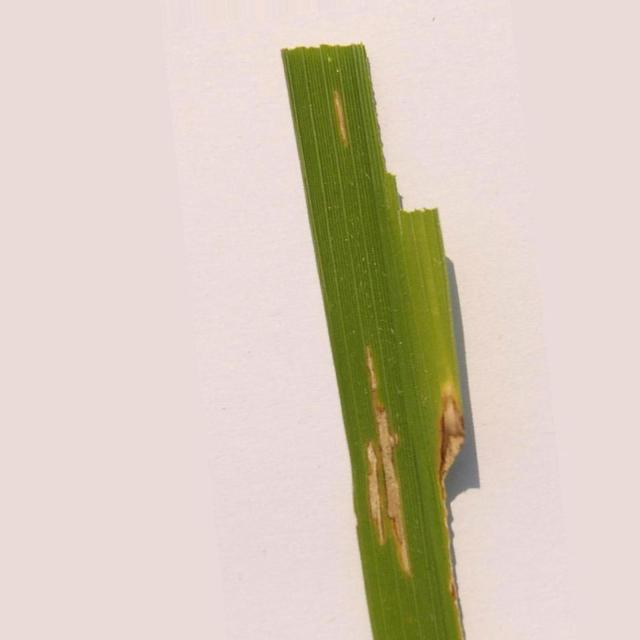Bacterial_Leaf_Blight: (365, 345, 411, 576), (435, 379, 465, 496), (366, 441, 385, 545), (442, 522, 459, 614), (333, 91, 351, 142)
